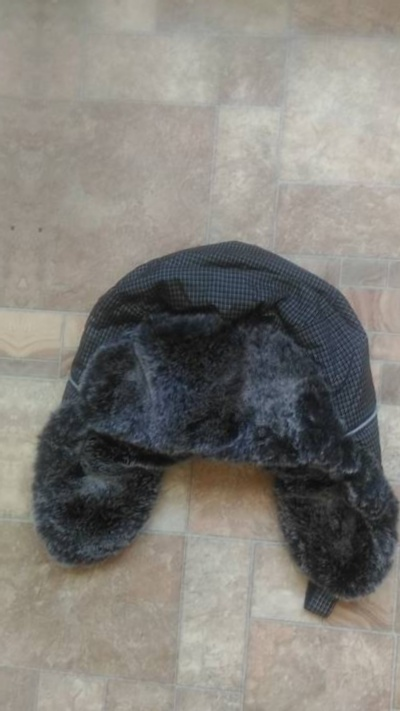Hat: (21, 194, 400, 634), (0, 166, 7, 607)
